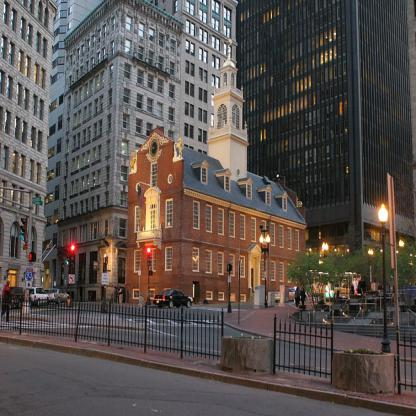State House: (120, 29, 324, 318)
